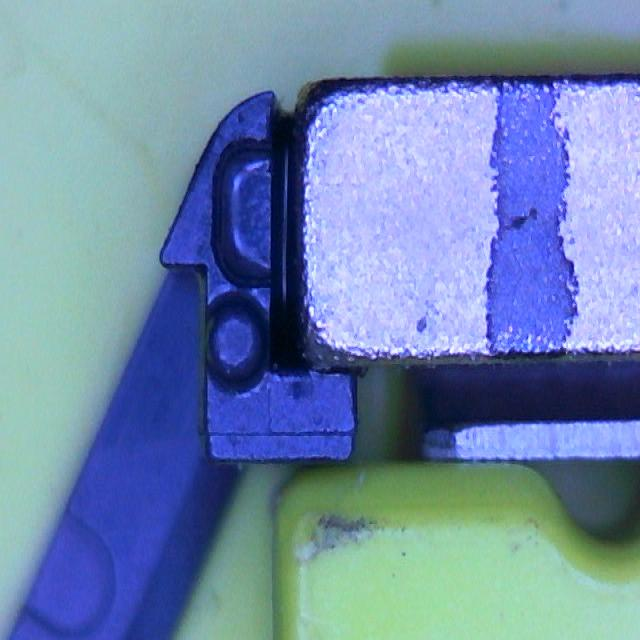good: (212, 134, 282, 291)
